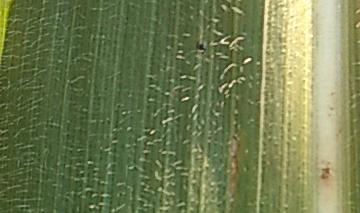tarspot: (193, 38, 208, 54)
